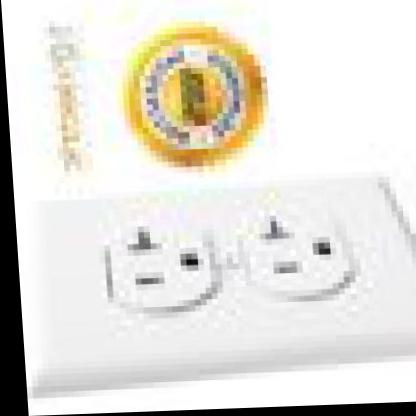OUTLET: (29, 158, 416, 410)
